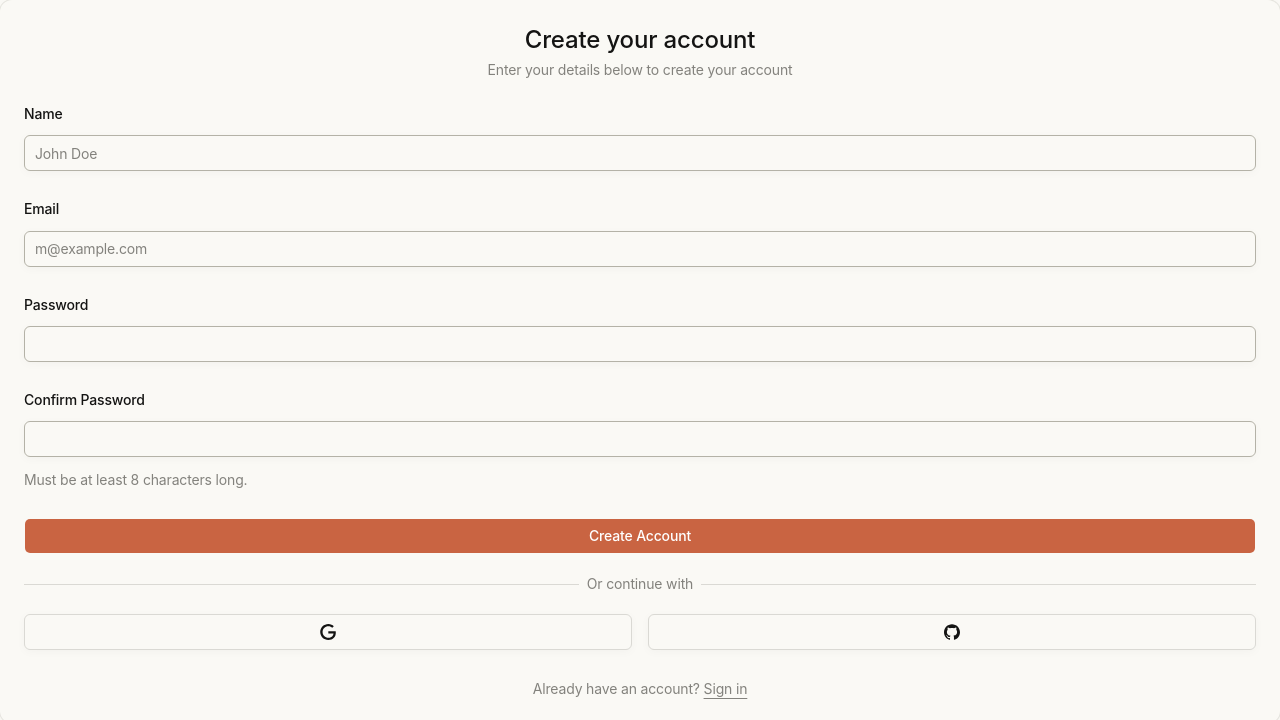
it: SignupForm › form submission › should show loading state while submitting
The width and height of the screenshot is (1280, 720).
Type "Test User" into the field labelled "Name" at (640, 153), box [24,135,1256,171]
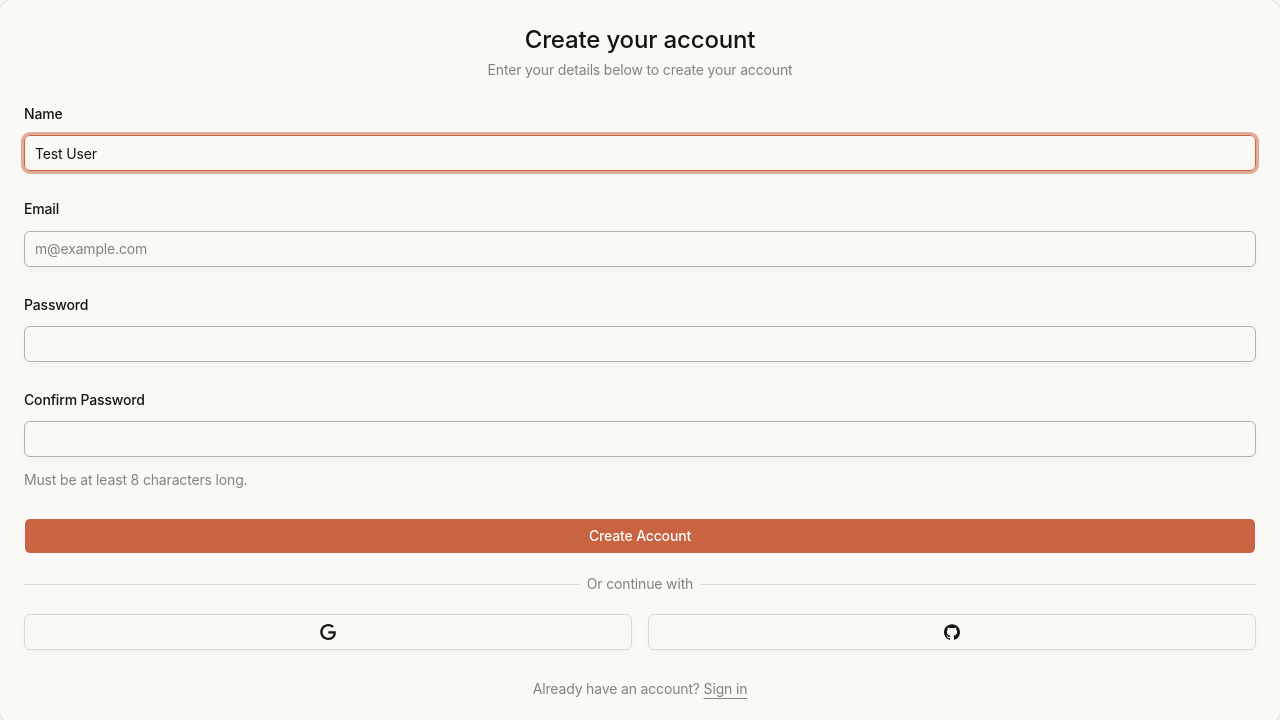
Type "test@example.com" into the field labelled "Email" at (640, 248), box [24,230,1256,266]
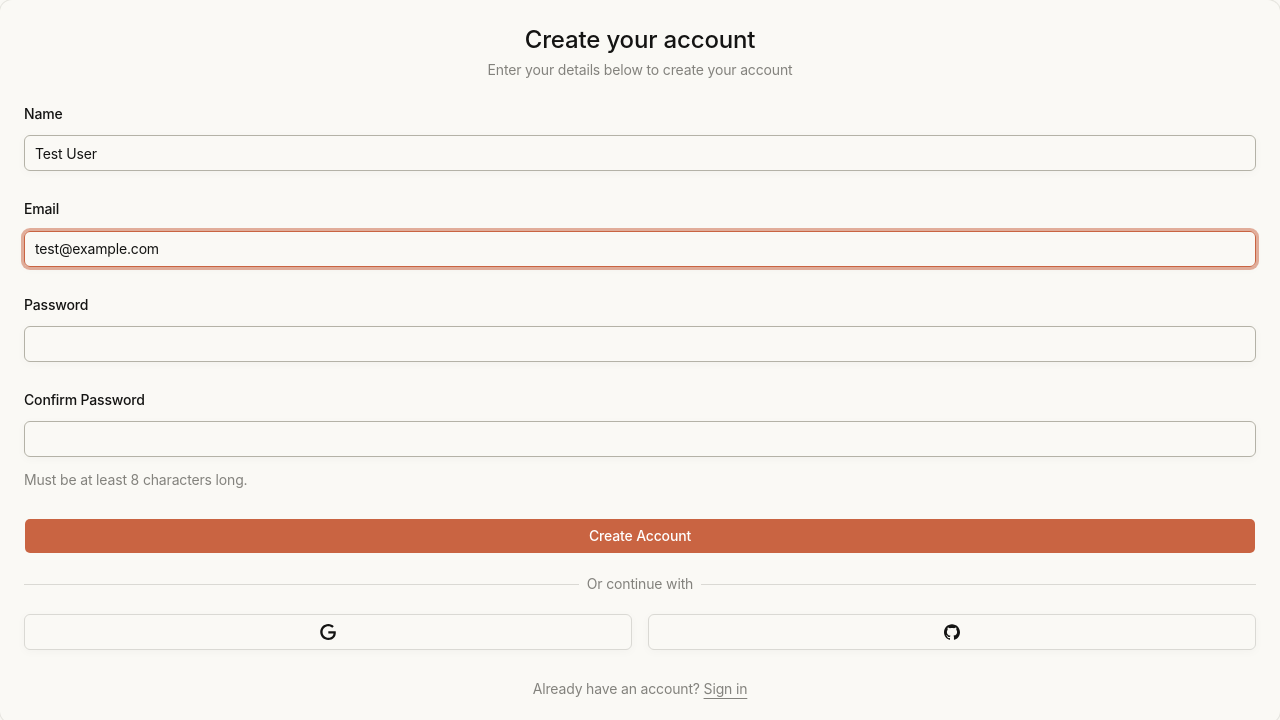
Type "password123" into the password field labelled "Password" at (640, 344), box [24,326,1256,362]
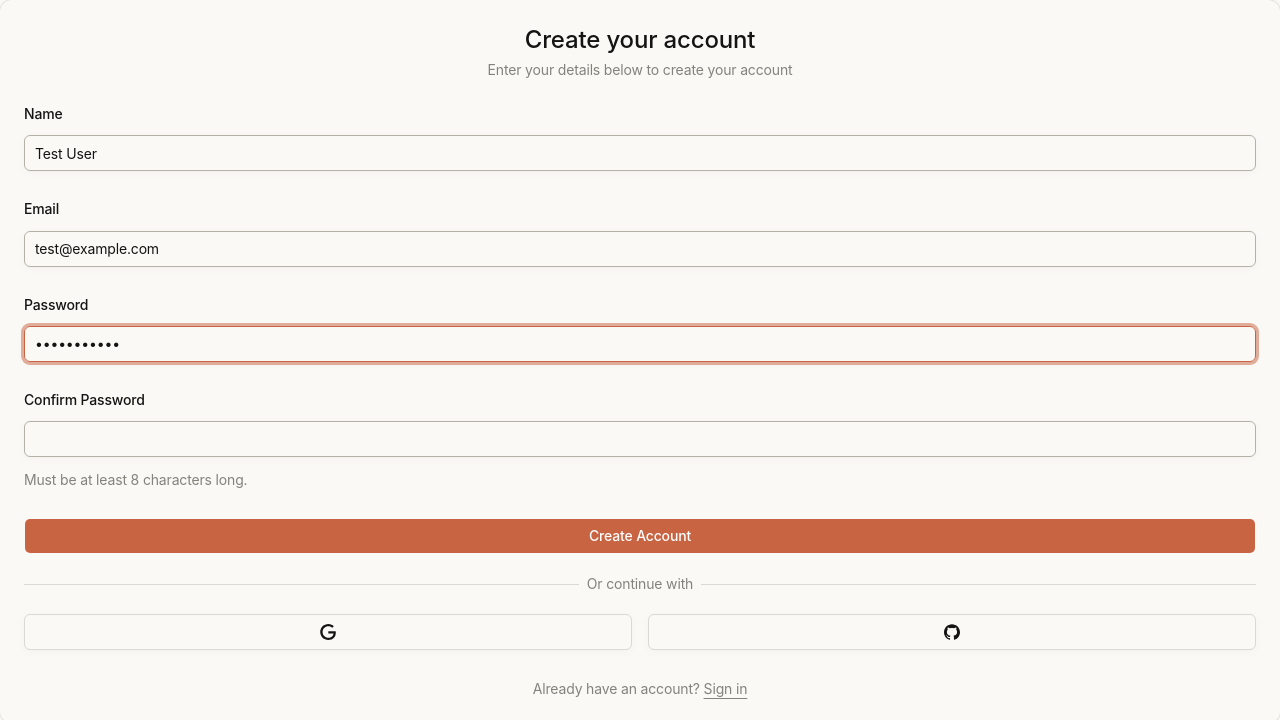
Type "password123" into the password field labelled "Confirm Password" at (640, 439), box [24,421,1256,457]
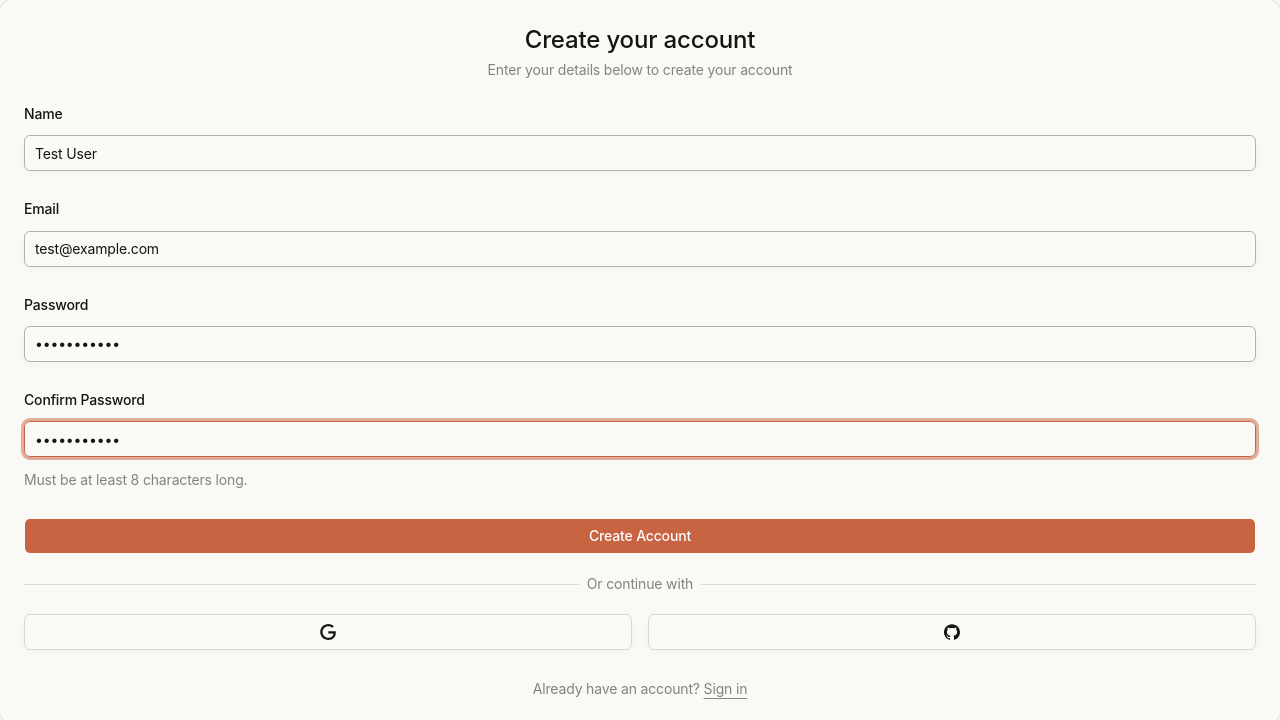
Click the button "Create Account" at (640, 536), box [24,518,1256,554]
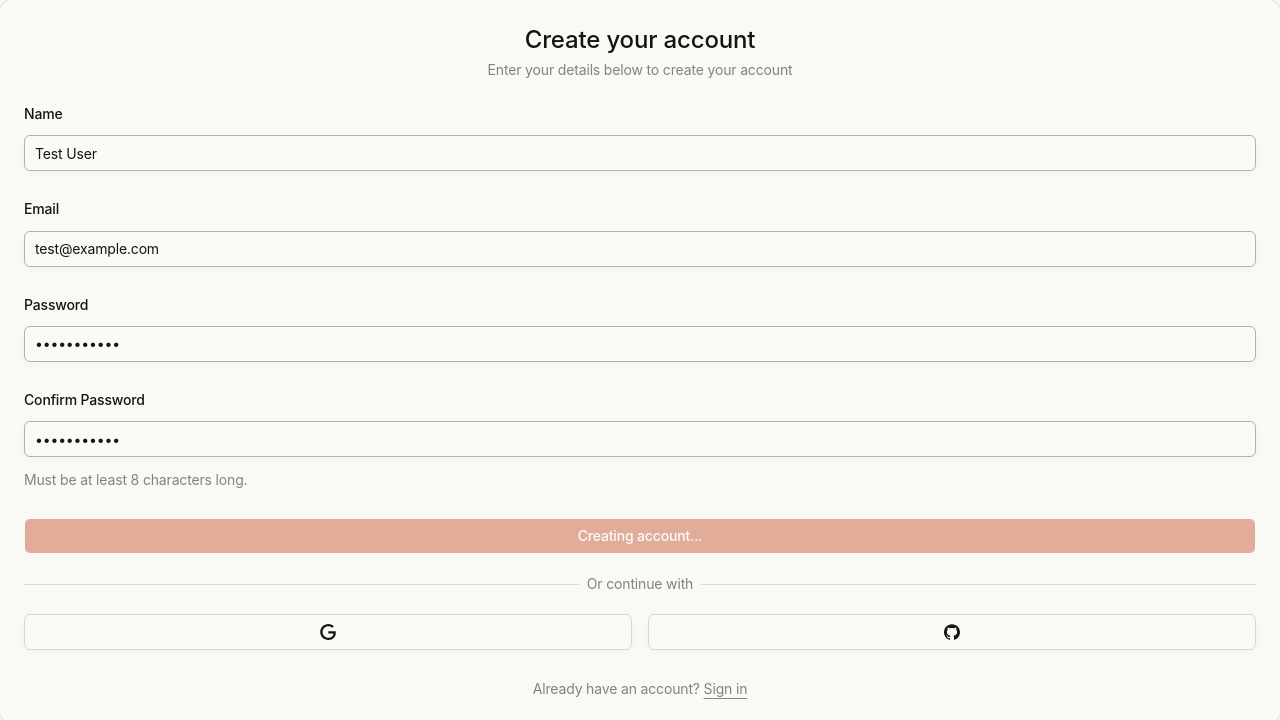
Now the button "Creating account..." is disabled, box [24,518,1256,554]
